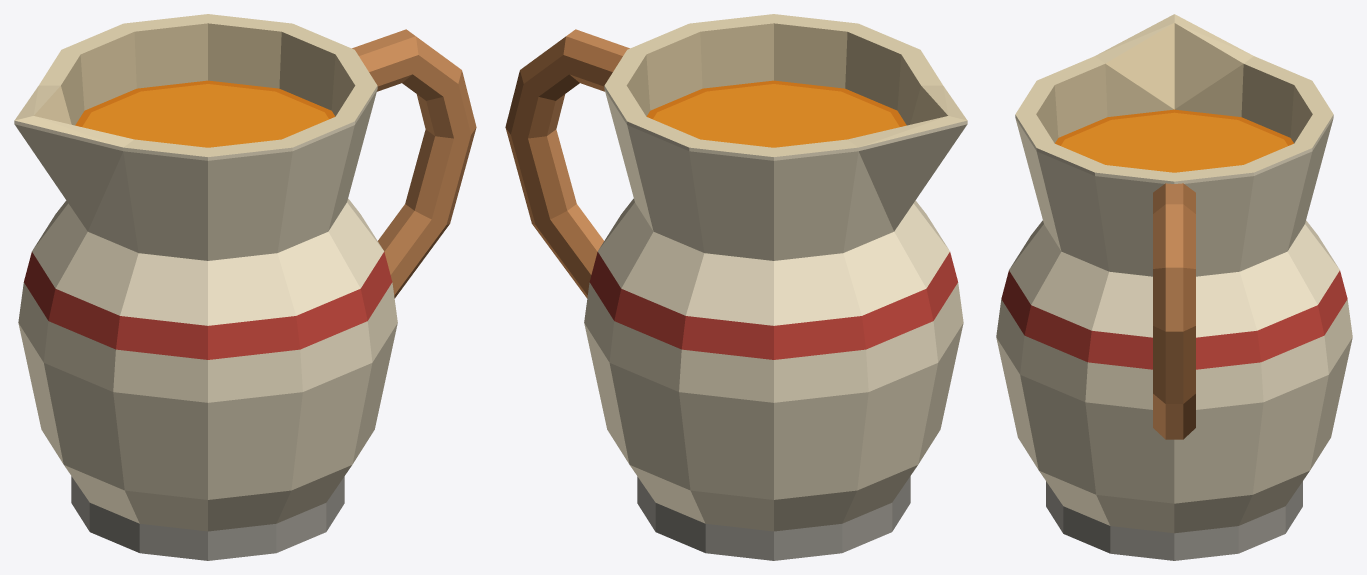
The model's file is FMS_Workshop_PRD_06.fbx.
3 views of the same model, side by side, from view 1: azimuth 30°, elevation 25°; view 2: azimuth 150°, elevation 25°; view 3: azimuth 270°, elevation 25° (orthographic). The views are drawn at different scales.
Parts seen in each view (by area): view 1: FMS_Workshop_PRD_06_Body; view 2: FMS_Workshop_PRD_06_Body; view 3: FMS_Workshop_PRD_06_Body.
Part boxes in pixels (x1=…): FMS_Workshop_PRD_06_Body: x1=14, y1=14, x2=476, y2=560; FMS_Workshop_PRD_06_Body: x1=505, y1=14, x2=967, y2=560; FMS_Workshop_PRD_06_Body: x1=996, y1=14, x2=1352, y2=560.
Size of the model in its own units: 0.3896 by 0.35 by 0.28.
1 material, 1 textured.
